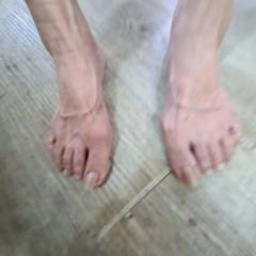Dorsal View -Both Feet-: (20, 12, 252, 195)
